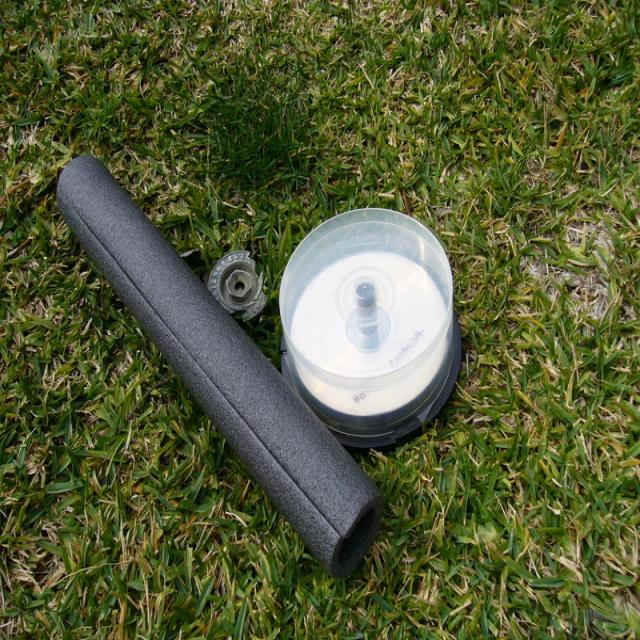plastic- tool: (57, 157, 382, 577), (280, 208, 461, 449), (208, 251, 266, 321)
